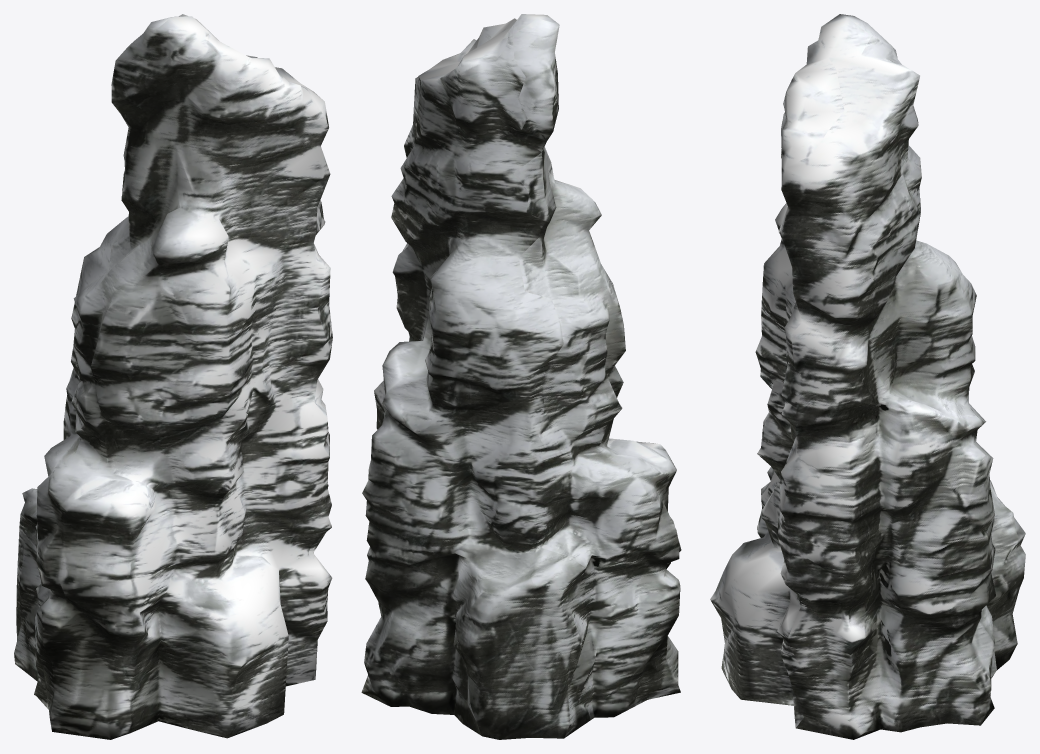
3 views of the same model, side by side, from view 1: azimuth 30°, elevation 25°; view 2: azimuth 150°, elevation 25°; view 3: azimuth 270°, elevation 25° (orthographic). The views are drawn at different scales.
Visible parts, largest first — view 1: Object_2; view 2: Object_2; view 3: Object_2.
Boxes of the visible parts, x1,y1,x2,y2 form: Object_2: [14, 14, 332, 739]; Object_2: [361, 14, 681, 739]; Object_2: [710, 14, 1025, 739].
Bounding box in the file's own units: 47.99 × 107 × 46.88.
Materials: 1 (1 with a texture image).
